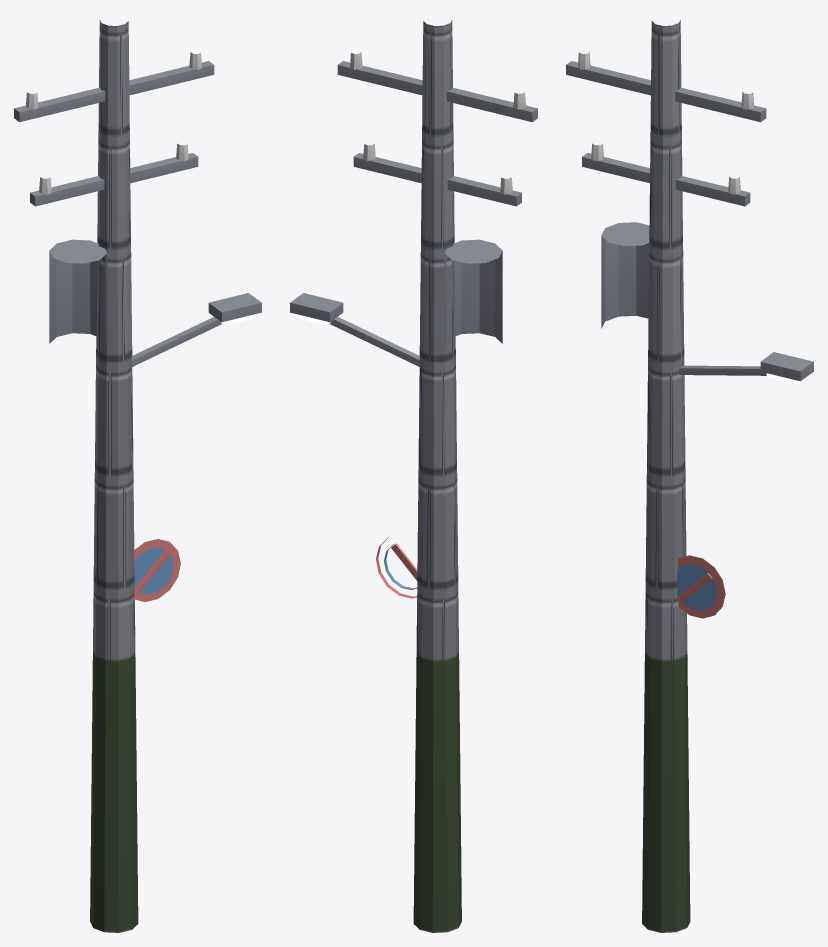
File: utility_pole.glb
The picture shows the model from 3 angles, left to right: view 1: azimuth 30°, elevation 25°; view 2: azimuth 150°, elevation 25°; view 3: azimuth 330°, elevation 25°; orthographic projection.
Visible parts, largest first — view 1: utility_pole; view 2: utility_pole; view 3: utility_pole.
Boxes of the visible parts, bbox=[...] form: utility_pole: bbox=[14, 20, 261, 932]; utility_pole: bbox=[290, 20, 537, 932]; utility_pole: bbox=[566, 20, 813, 932].
Bounding box in the file's own units: 2.27 × 8.2 × 0.4565.
Materials: 6 (1 with a texture image).
